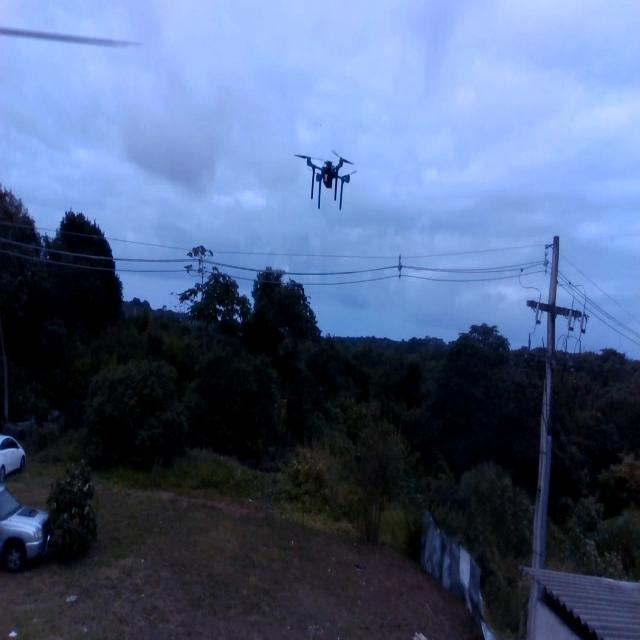-uav-: (290, 133, 365, 231)
